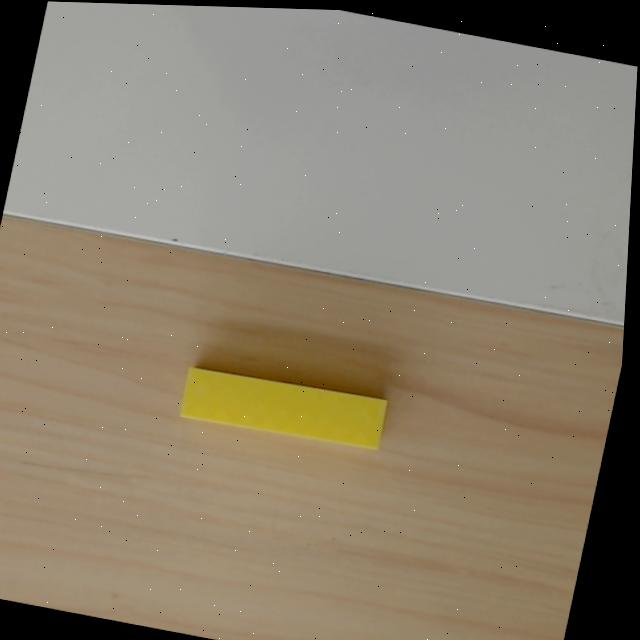Balok-Kuning-1002525: (179, 365, 387, 450)
